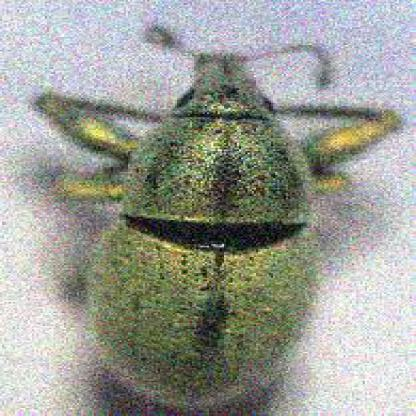ash weevil: (37, 57, 406, 410)
